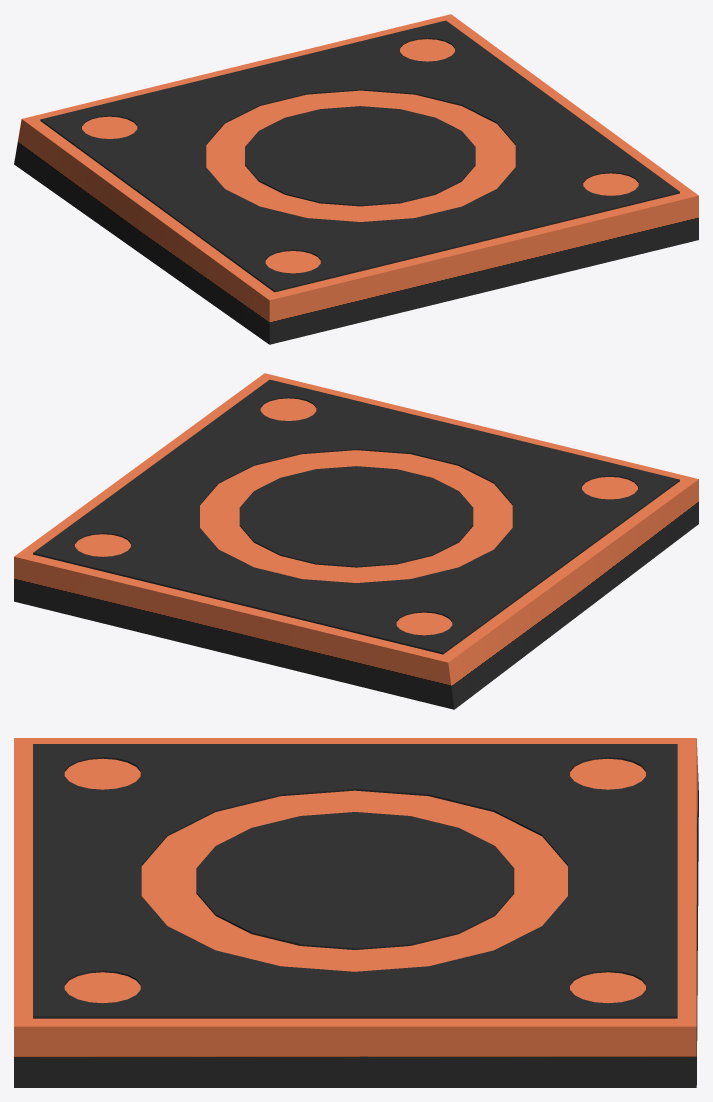
File: Button_Orange.fbx
3 renders of one model, top to bottom at view 1: azimuth 30°, elevation 25°; view 2: azimuth 150°, elevation 25°; view 3: azimuth 270°, elevation 25°, orthographic. The views are drawn at different scales.
Parts seen in each view (by area): view 1: Box001; view 2: Box001; view 3: Box001.
Boxes of the visible parts, x1=… form: Box001: x1=14, y1=14, x2=698, y2=344; Box001: x1=14, y1=373, x2=698, y2=709; Box001: x1=14, y1=738, x2=698, y2=1087.
Bounding box in the file's own units: 1.02 × 0.1033 × 1.01.
